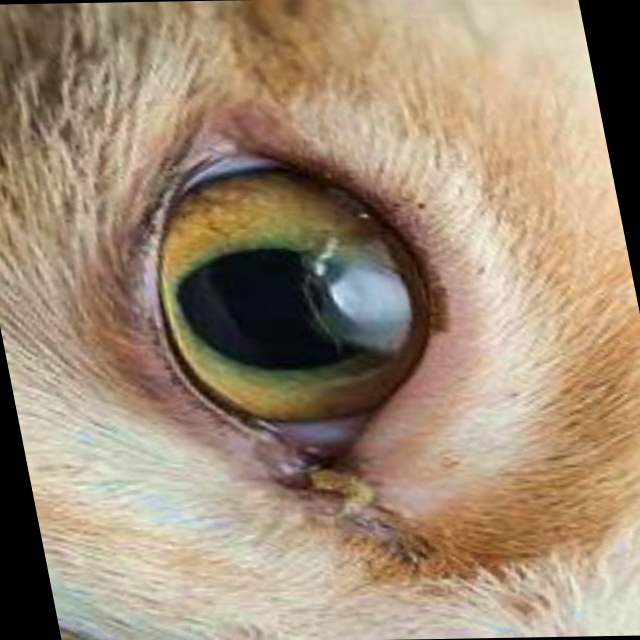eye_infection: (113, 126, 482, 497)
